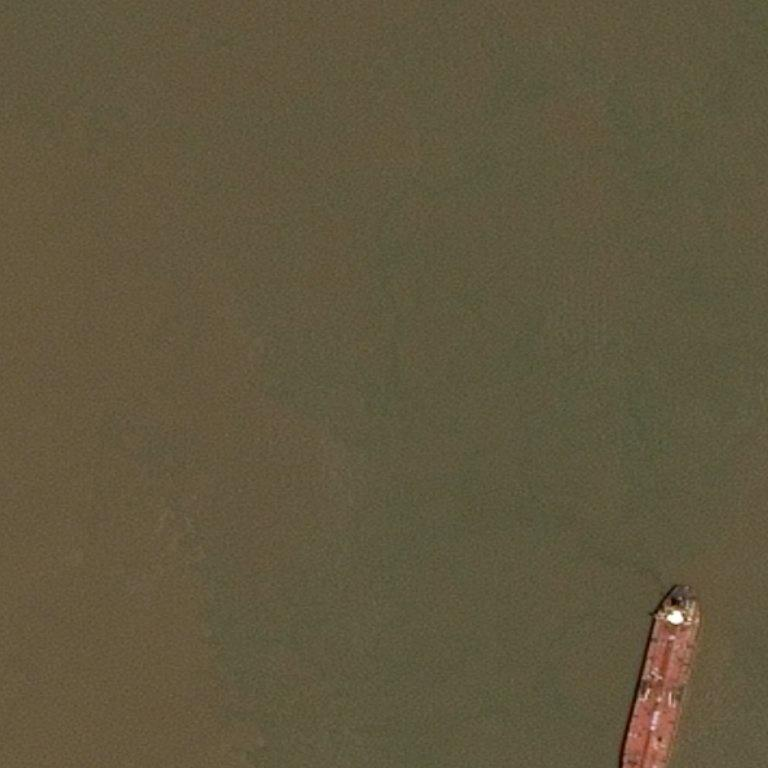ship: (618, 580, 710, 768)
